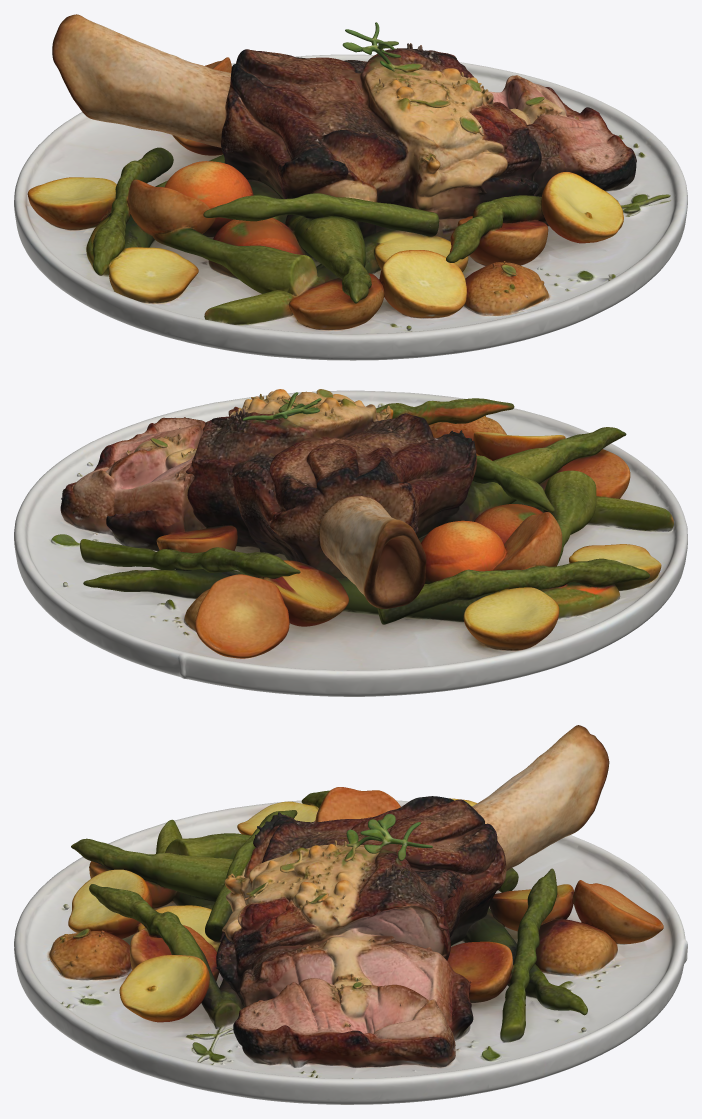
The model's file is ctelette-de-veau.glb.
3 views of the same model, one above another, from view 1: azimuth 30°, elevation 25°; view 2: azimuth 150°, elevation 25°; view 3: azimuth 270°, elevation 25° (orthographic).
Visible parts, largest first — view 1: tripo_node_38c01ca4-4f9f-4d89-9bd7-6ef43b236e44; view 2: tripo_node_38c01ca4-4f9f-4d89-9bd7-6ef43b236e44; view 3: tripo_node_38c01ca4-4f9f-4d89-9bd7-6ef43b236e44.
Boxes of the visible parts, x1,y1,x2,y2 form: tripo_node_38c01ca4-4f9f-4d89-9bd7-6ef43b236e44: [14, 14, 687, 360]; tripo_node_38c01ca4-4f9f-4d89-9bd7-6ef43b236e44: [14, 389, 687, 696]; tripo_node_38c01ca4-4f9f-4d89-9bd7-6ef43b236e44: [14, 725, 687, 1104].
Bounding box in the file's own units: 0.9986 × 0.2641 × 1.
1 material, 1 textured.
